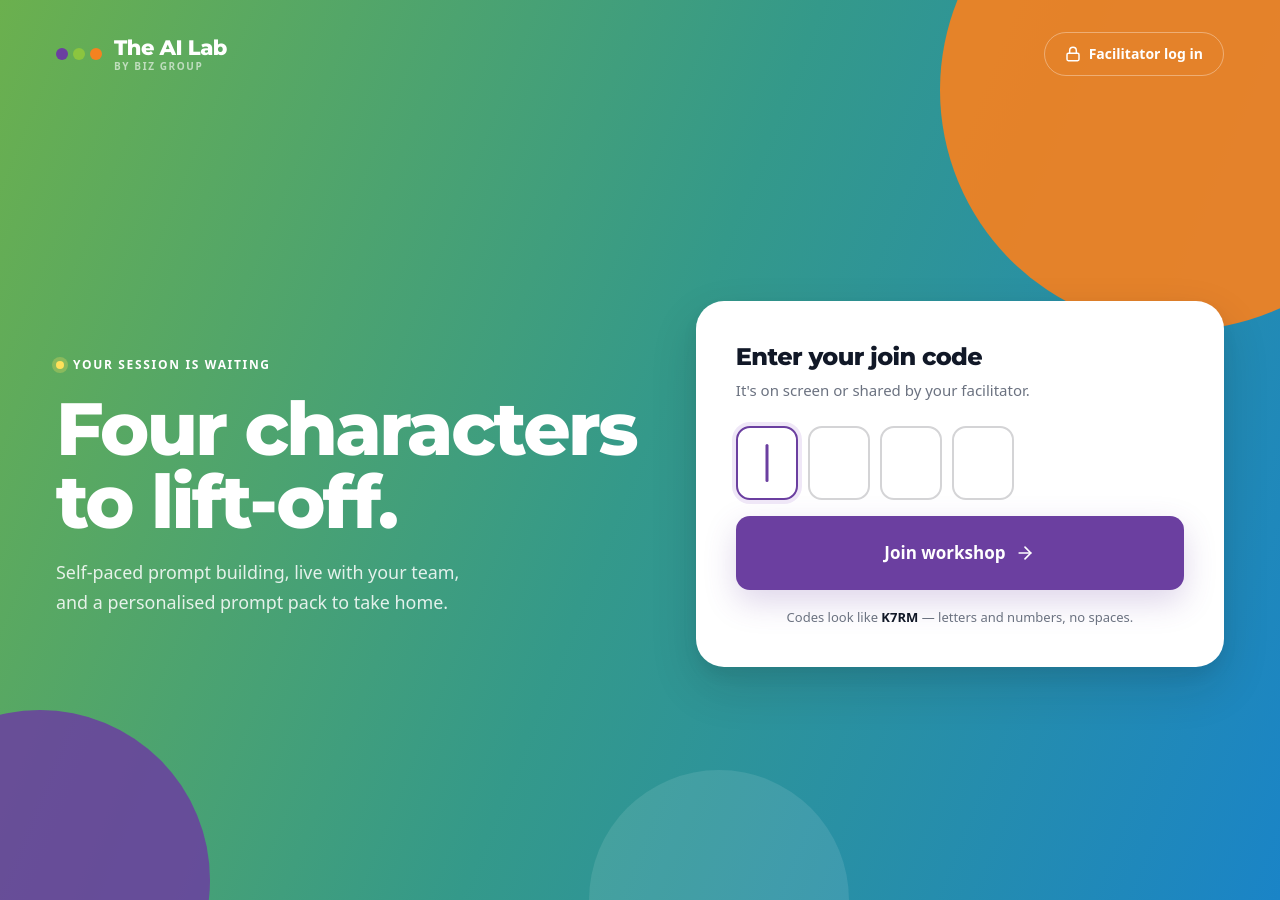
HomePage › form submission › shows error message on failed verify
Type "K" into the field named "Join code character 1".
click(767, 462); type("K")  # box [736,426,798,500]
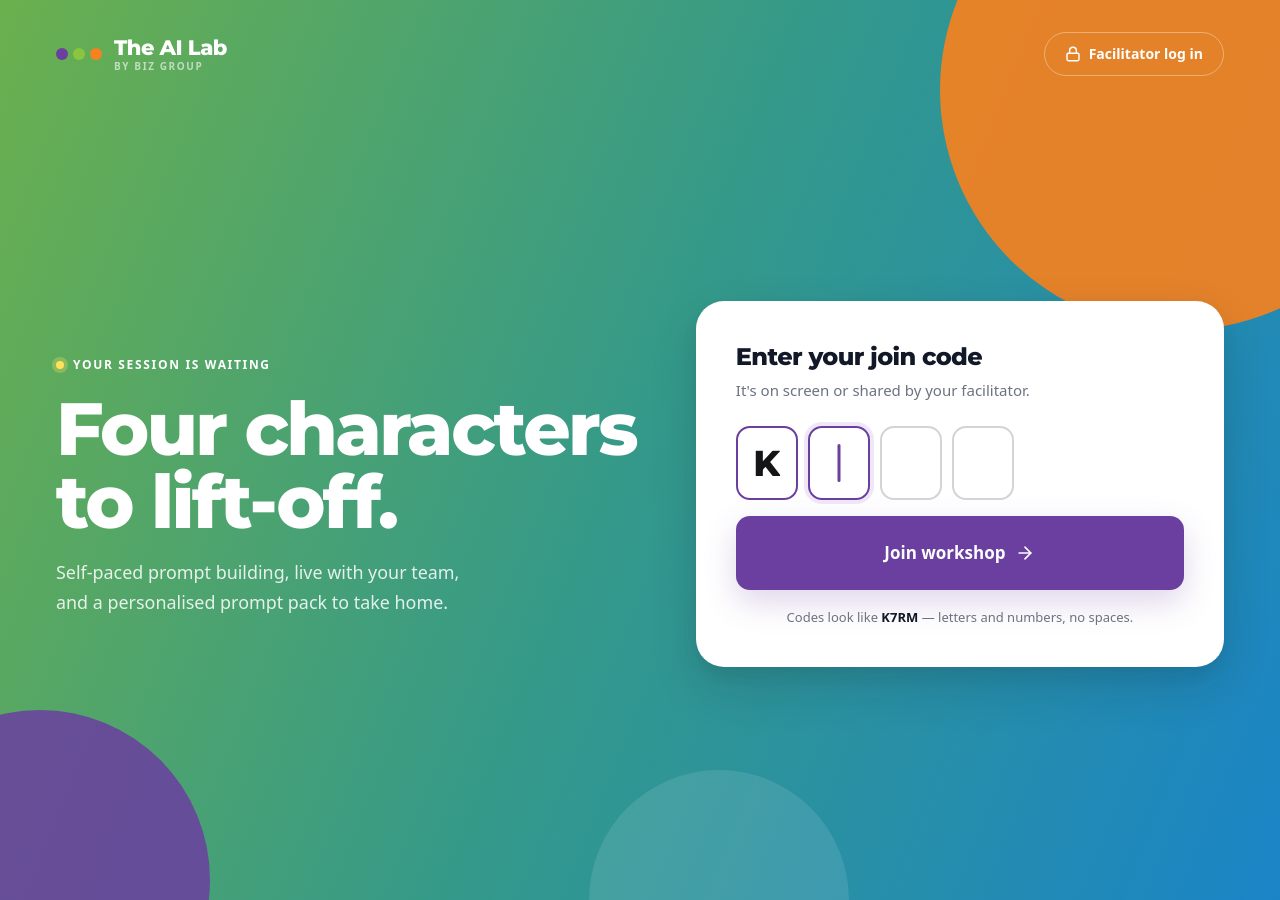
Type "7" into the field named "Join code character 2".
click(839, 462); type("7")  # box [808,426,870,500]
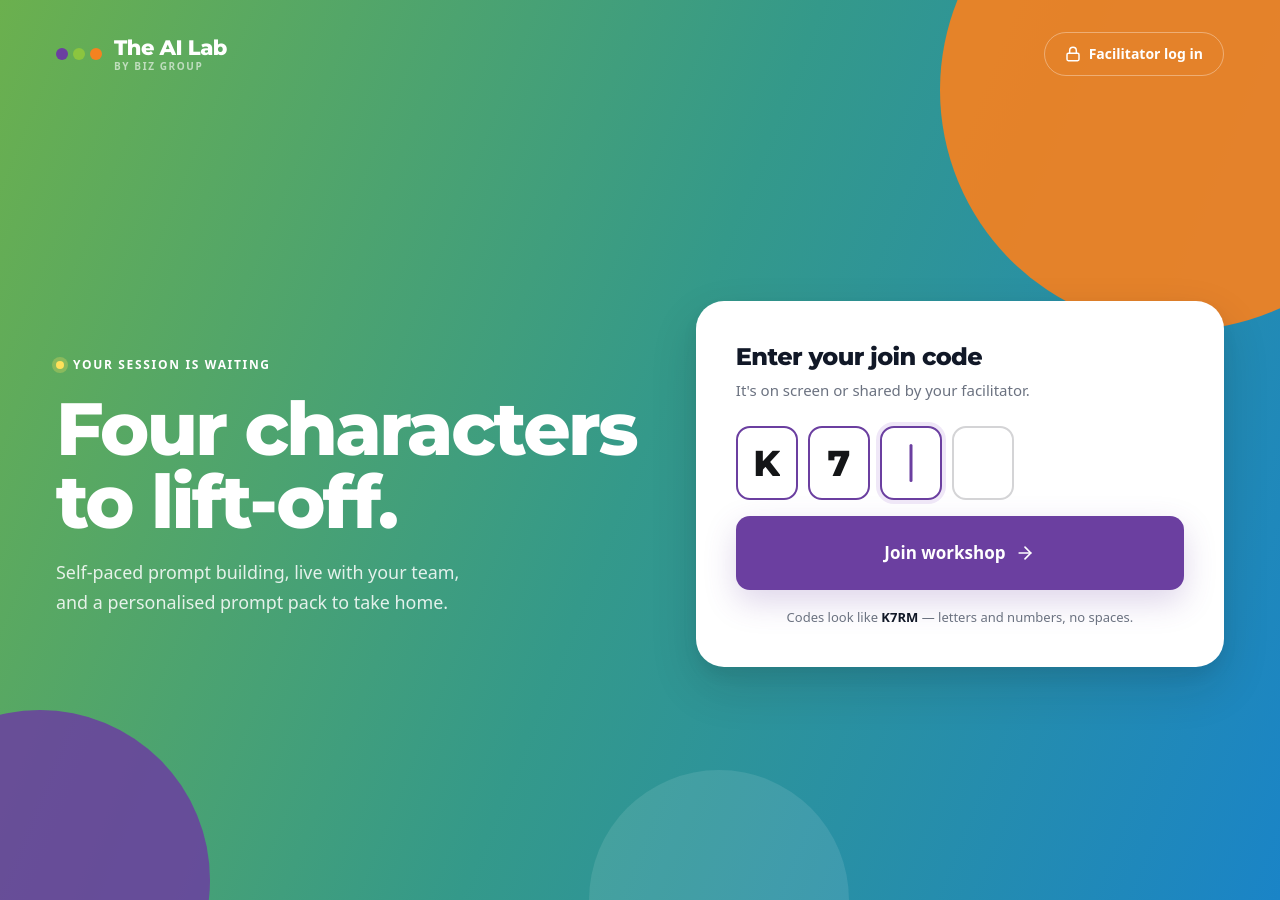
Type "R" into the field named "Join code character 3".
click(911, 462); type("R")  # box [880,426,942,500]
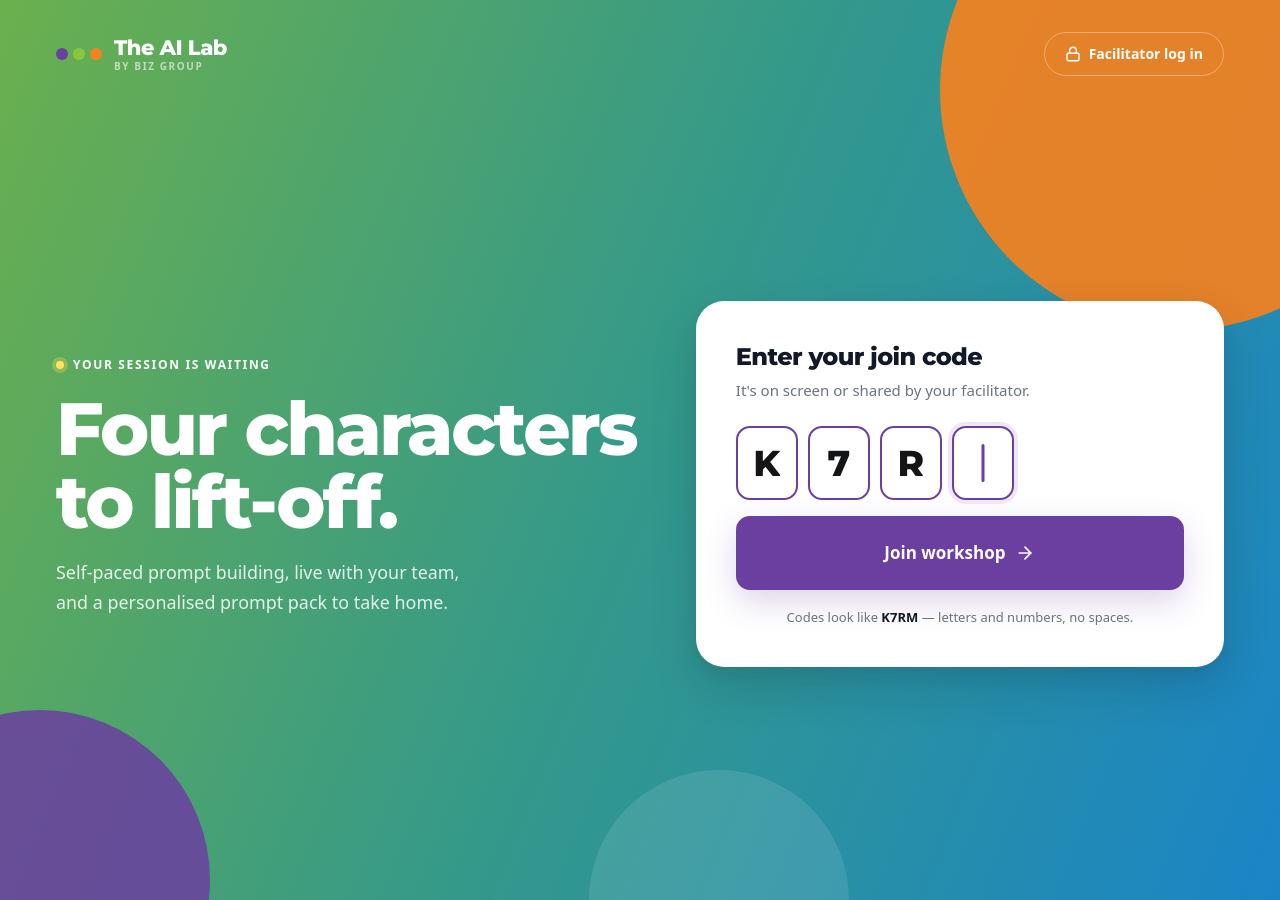
Type "M" into the field named "Join code character 4".
click(983, 462); type("M")  # box [952,426,1014,500]
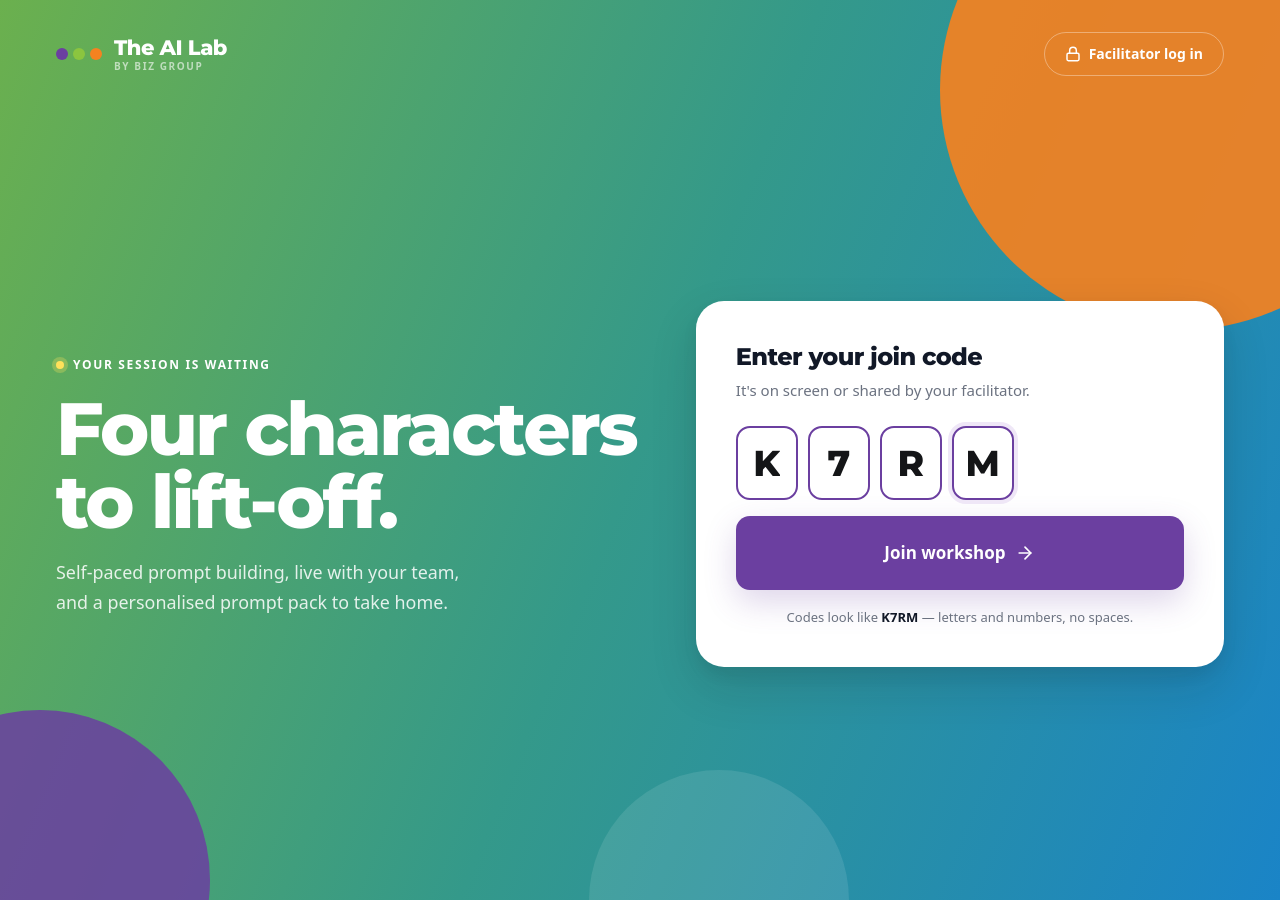
Submit the form "Join workshop", box [736,426,1184,590]
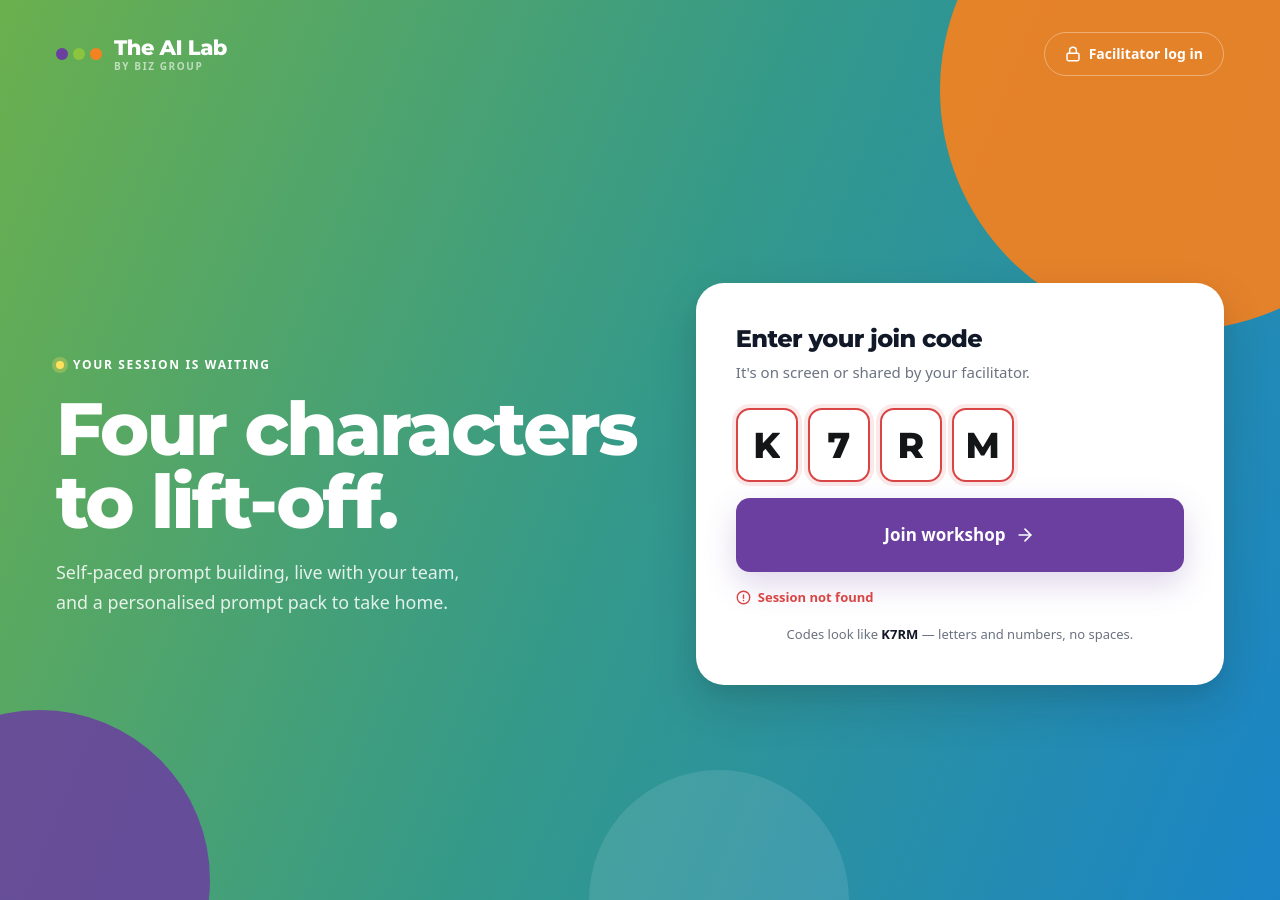
Result: the text "Session not found" is shown at [736,588,874,606]
